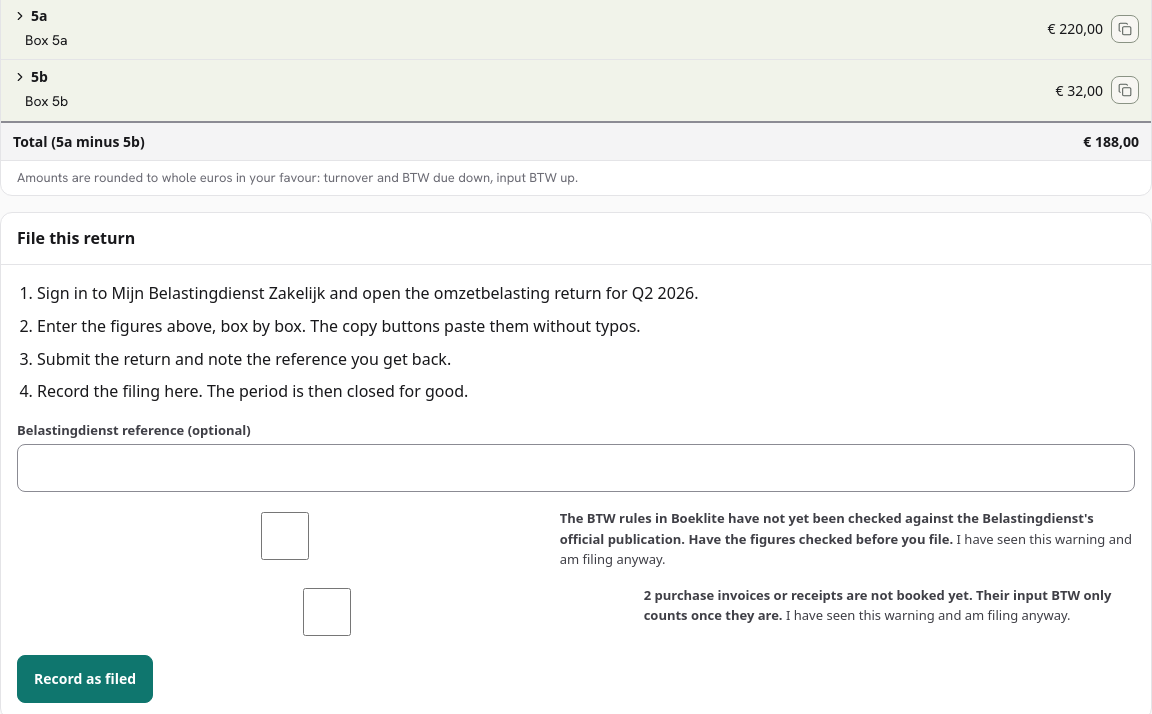
one BTW return › says who may file when the filer is not allowed to
(page scrolled)
Click the checkbox with test id "vat-ack-provisional_ruleset" at (285, 536), box [21,512,549,560]
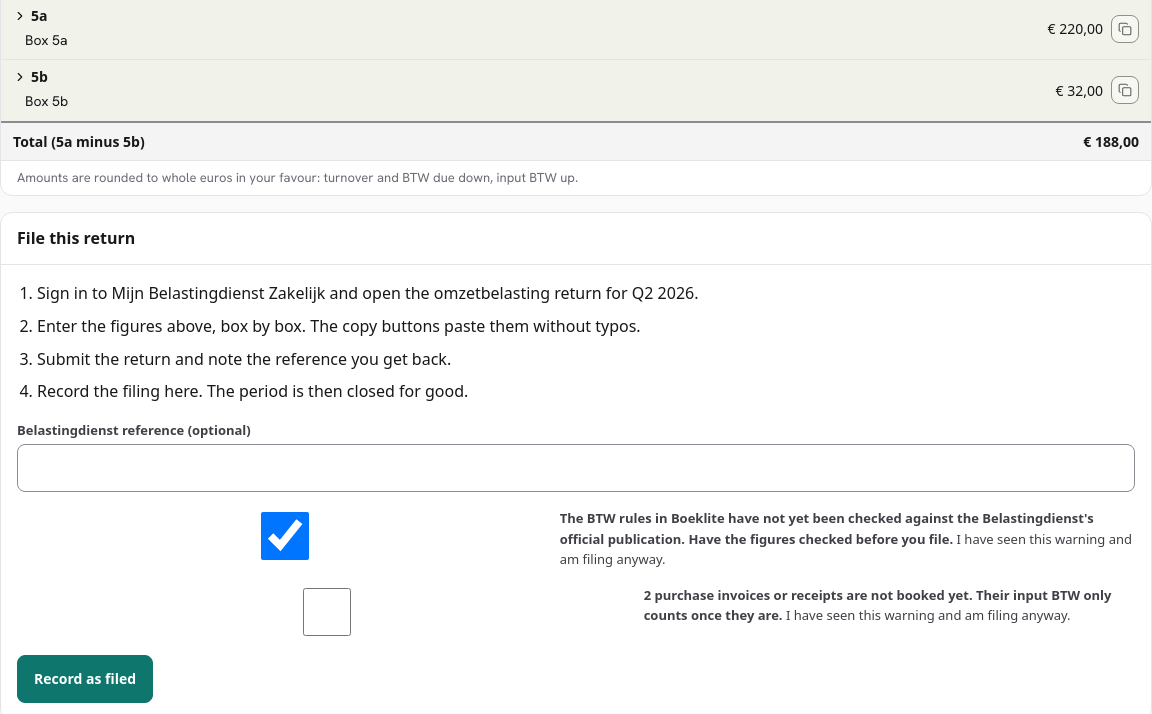
Click the checkbox with test id "vat-ack-unposted_purchases" at (327, 612), box [21,588,633,636]
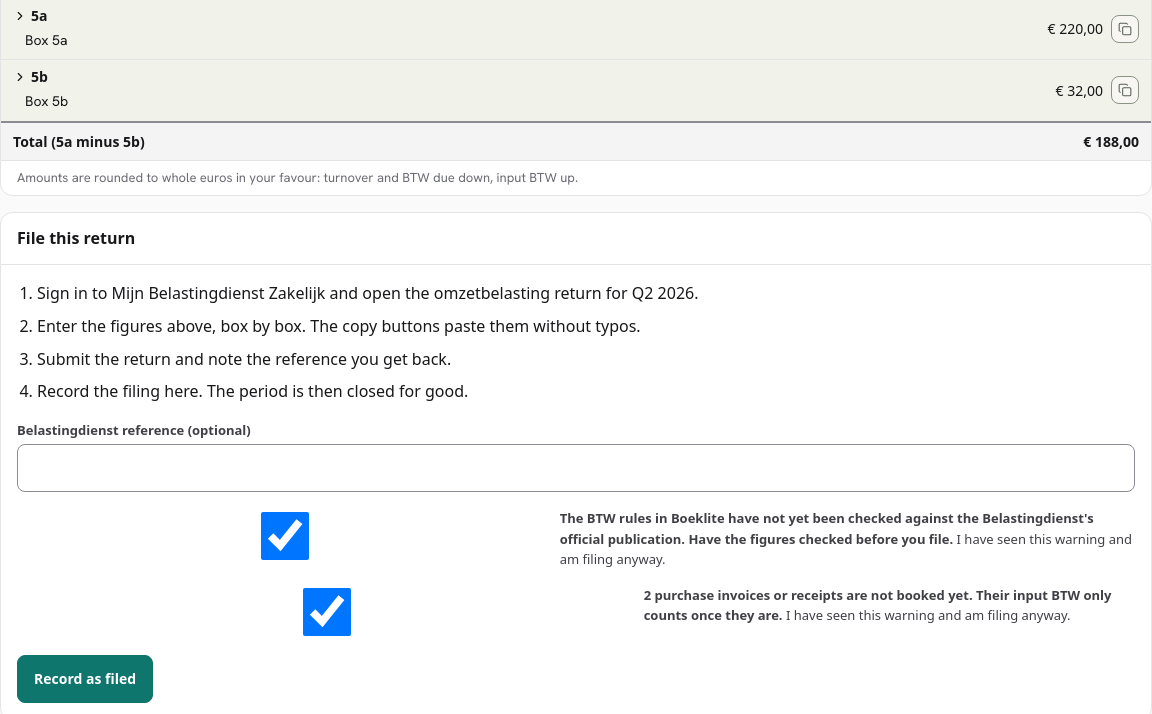
Click the button with test id "vat-file-submit" at (85, 679), box [17,655,153,703]
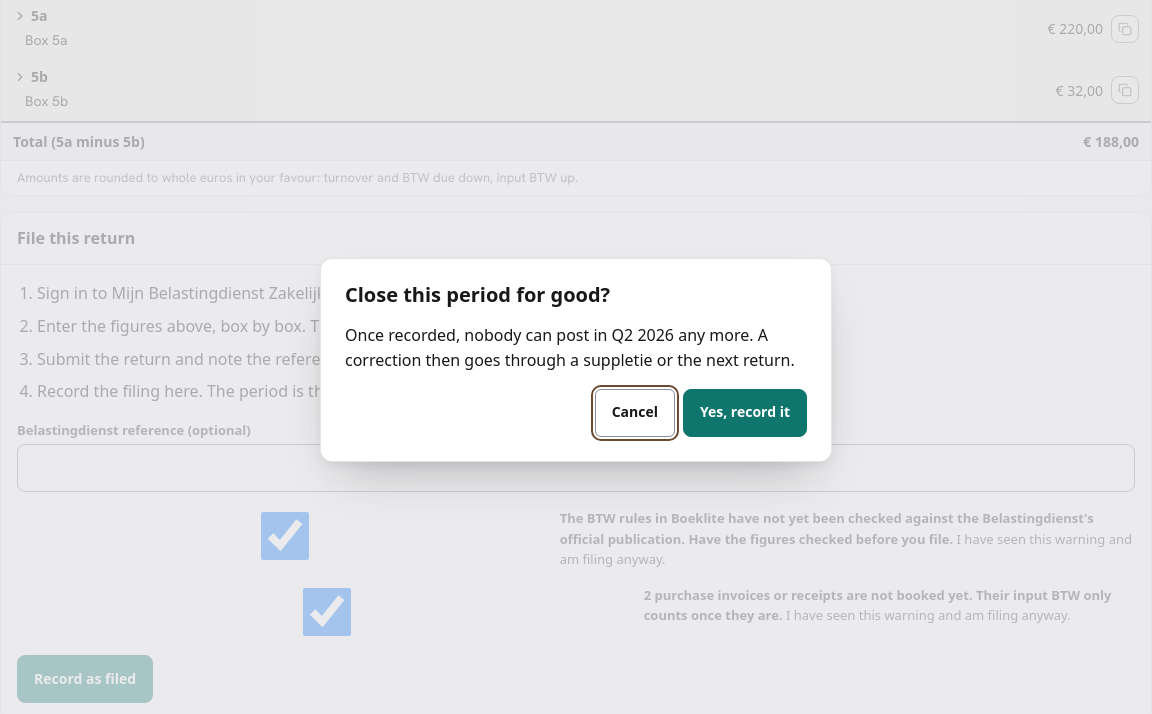
Click the button with test id "vat-file-confirm-yes" at (745, 413), box [683,389,807,437]
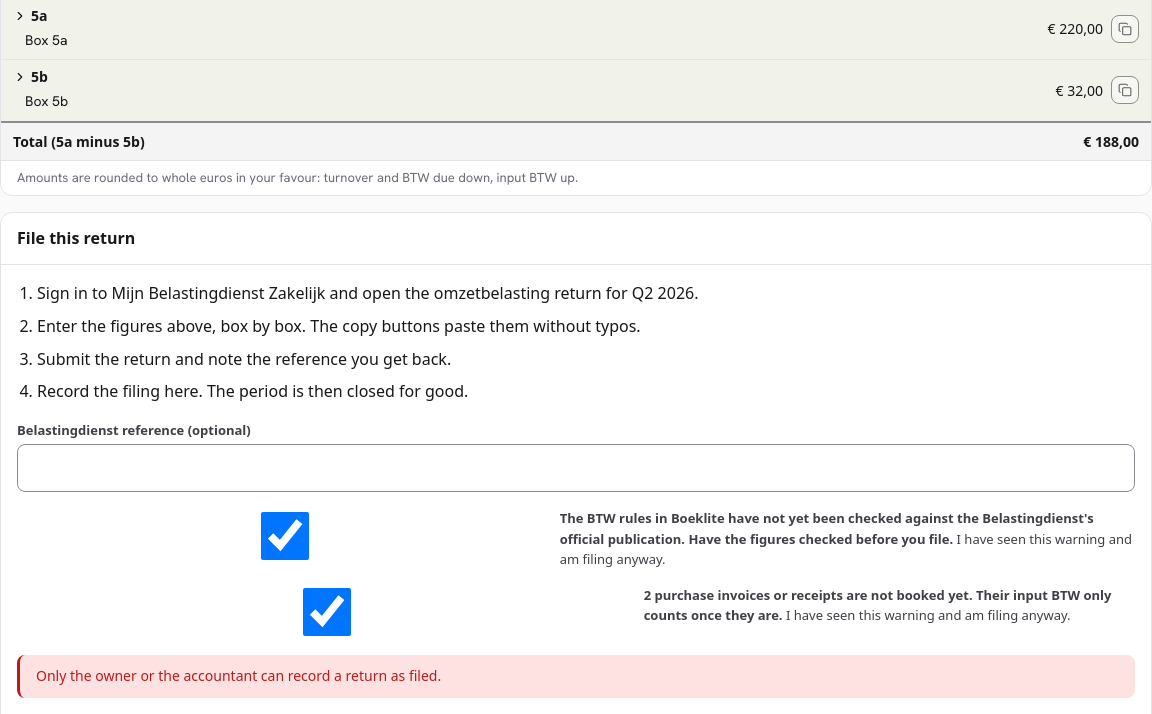
Result: the message with test id "vat-file-error" shows "Only the owner or the accountant" at [36,666,441,685]
